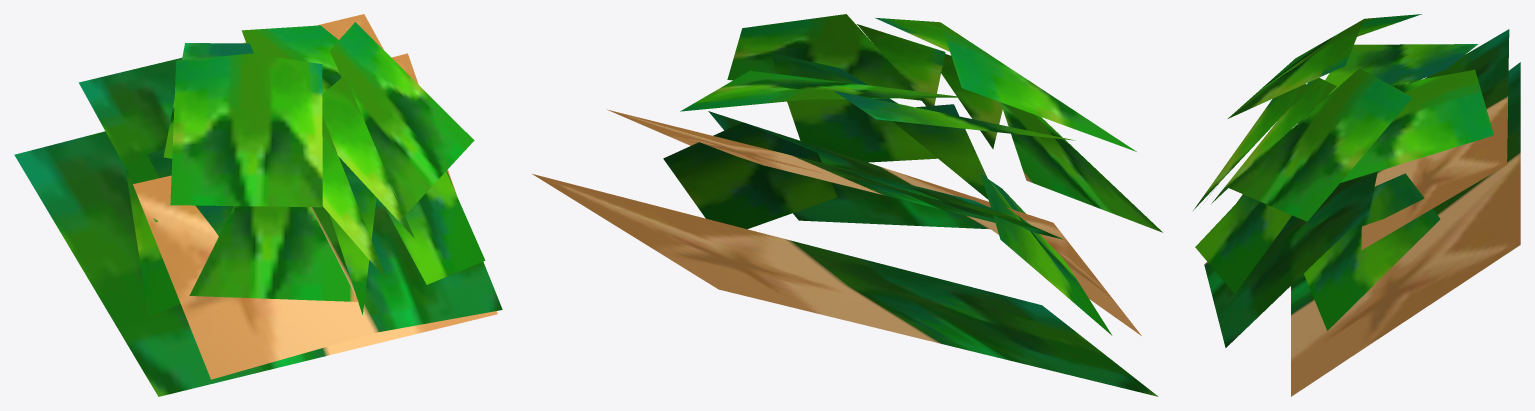
The model's file is fg_bushE_2.dae.
3 views of the same model, side by side, from view 1: azimuth 30°, elevation 25°; view 2: azimuth 150°, elevation 25°; view 3: azimuth 270°, elevation 25° (orthographic). The views are drawn at different scales.
Parts seen in each view (by area): view 1: fg_bushE_2; view 2: fg_bushE_2; view 3: fg_bushE_2.
Boxes of the visible parts, x1,y1,x2,y2 form: fg_bushE_2: [14, 14, 502, 396]; fg_bushE_2: [532, 14, 1162, 396]; fg_bushE_2: [1193, 14, 1520, 396].
Bounding box in the file's own units: 50.84 × 35.08 × 37.48.
1 material, 1 textured.
